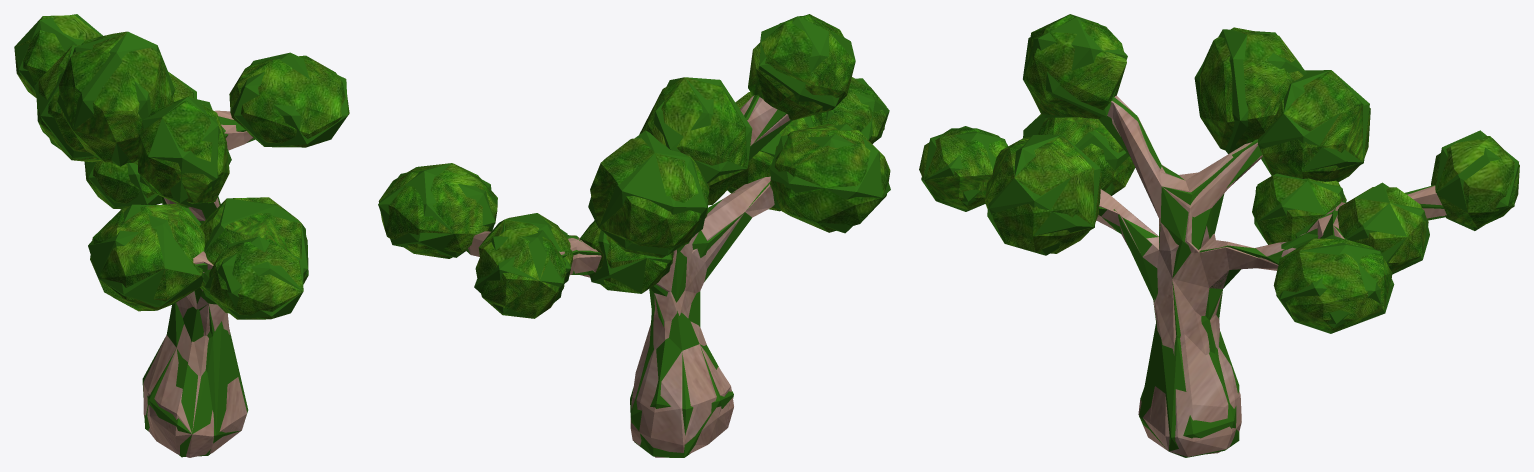
The model's file is Tree01.fbx.
3 renders of one model, left to right at view 1: azimuth 30°, elevation 25°; view 2: azimuth 150°, elevation 25°; view 3: azimuth 270°, elevation 25°, orthographic.
Parts seen in each view (by area): view 1: TreeAndLeaves#2_M#2, TreeAndLeaves#2_M.005#2, TreeAndLeaves#2_M.001#2, TreeAndLeaves#2_M.002#2; view 2: TreeAndLeaves#2_M#2, TreeAndLeaves#2_M.005#2, TreeAndLeaves#2_M.001#2, TreeAndLeaves#2_M.002#2; view 3: TreeAndLeaves#2_M#2, TreeAndLeaves#2_M.005#2, TreeAndLeaves#2_M.001#2, TreeAndLeaves#2_M.002#2.
Part boxes in pixels (bbox=[...]): TreeAndLeaves#2_M#2: bbox=[14, 15, 349, 319]; TreeAndLeaves#2_M.005#2: bbox=[14, 14, 347, 318]; TreeAndLeaves#2_M.001#2: bbox=[143, 110, 253, 457]; TreeAndLeaves#2_M.002#2: bbox=[142, 116, 255, 457]; TreeAndLeaves#2_M#2: bbox=[378, 14, 890, 318]; TreeAndLeaves#2_M.005#2: bbox=[378, 16, 890, 318]; TreeAndLeaves#2_M.001#2: bbox=[466, 95, 790, 457]; TreeAndLeaves#2_M.002#2: bbox=[466, 95, 792, 457]; TreeAndLeaves#2_M#2: bbox=[919, 14, 1519, 331]; TreeAndLeaves#2_M.005#2: bbox=[921, 14, 1518, 333]; TreeAndLeaves#2_M.001#2: bbox=[1096, 95, 1446, 456]; TreeAndLeaves#2_M.002#2: bbox=[1098, 97, 1445, 457].
Bounding box in the file's own units: 10.7 × 11.15 × 15.22.
2 materials, 2 textured.
